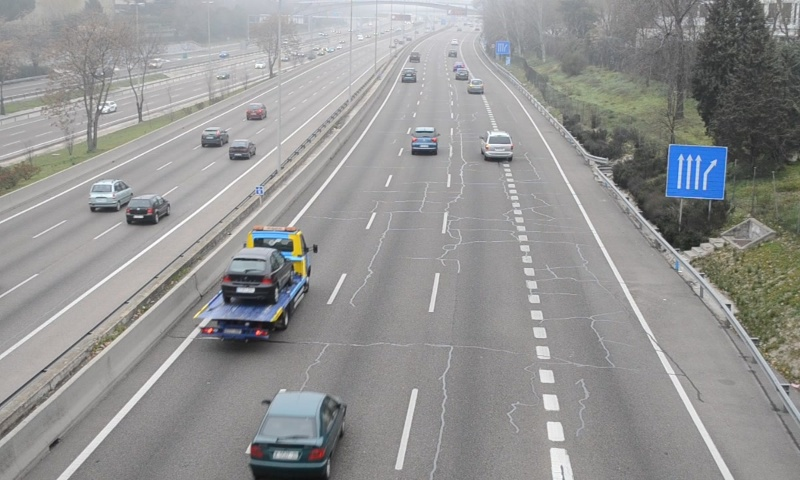car: (250, 392, 344, 474), (482, 130, 514, 161), (410, 126, 438, 152), (467, 78, 483, 95), (400, 67, 415, 84)
small-truck: (193, 226, 310, 341)
